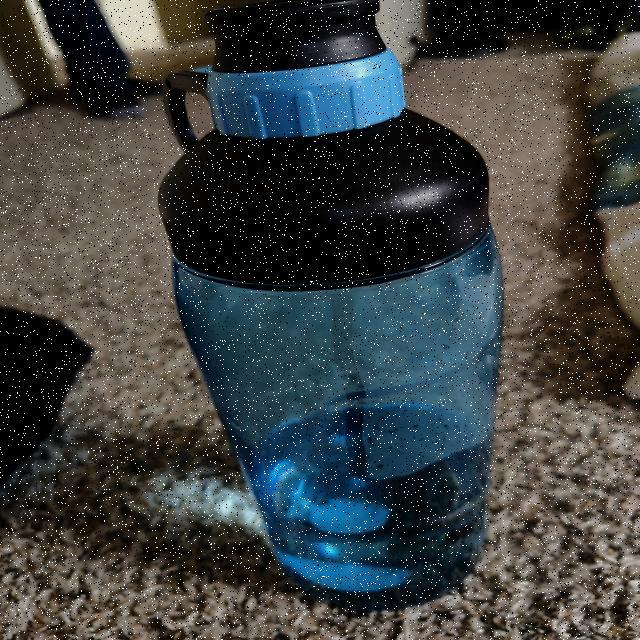bottle: (164, 0, 498, 594)
